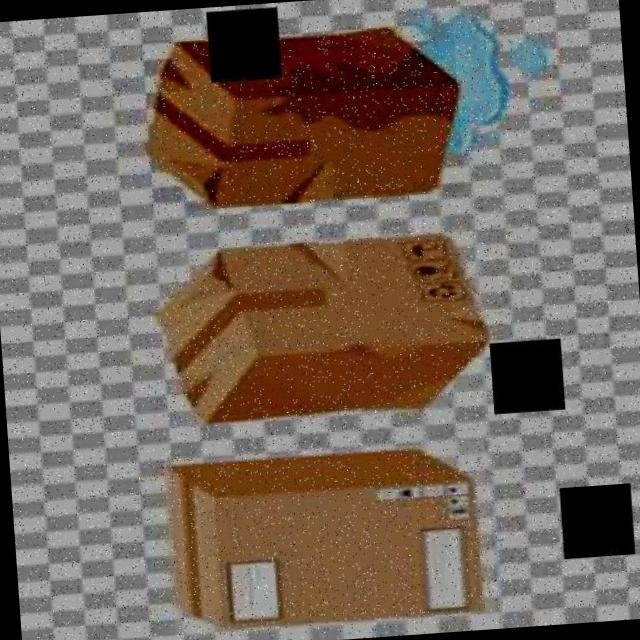box: (152, 226, 498, 427), (163, 440, 497, 638), (138, 19, 464, 214)
